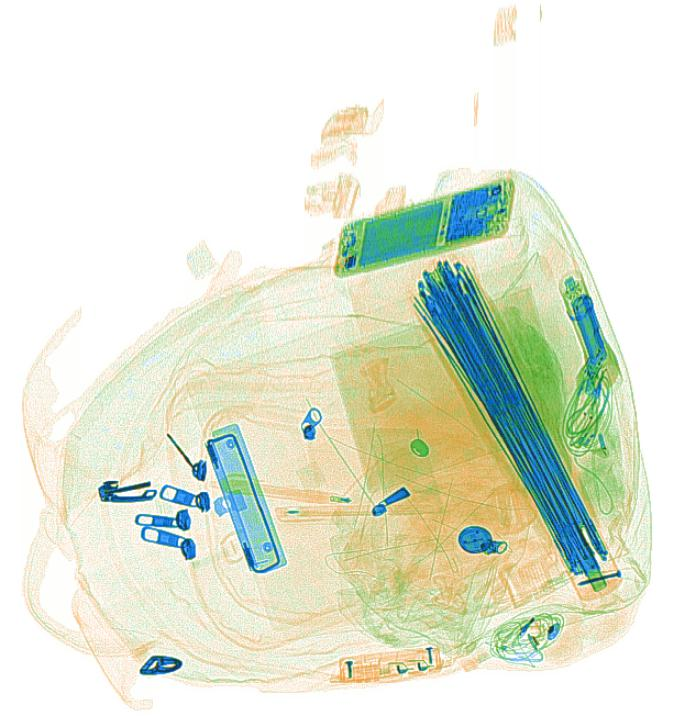battery: (572, 292, 606, 360)
